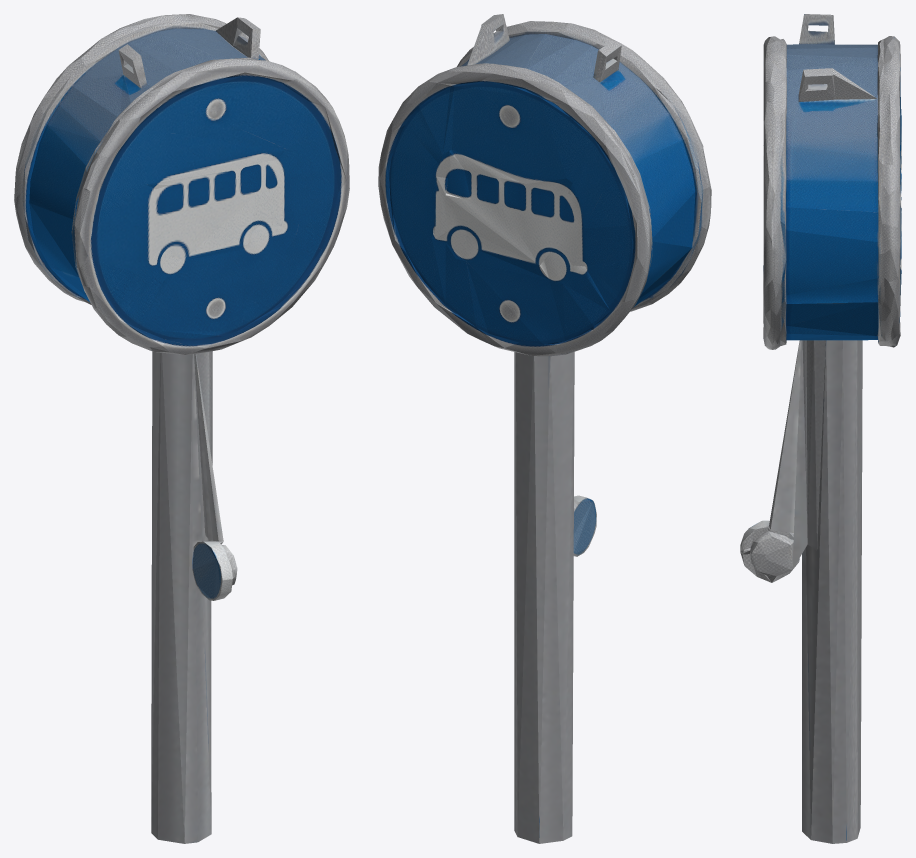
Rendered from bus_stop_sign.glb.
The picture shows the model from 3 angles, left to right: view 1: azimuth 30°, elevation 25°; view 2: azimuth 150°, elevation 25°; view 3: azimuth 270°, elevation 25°; orthographic projection.
Size of the model in its own units: 0.6802 by 1.9 by 0.3522.
1 material, 1 textured.
